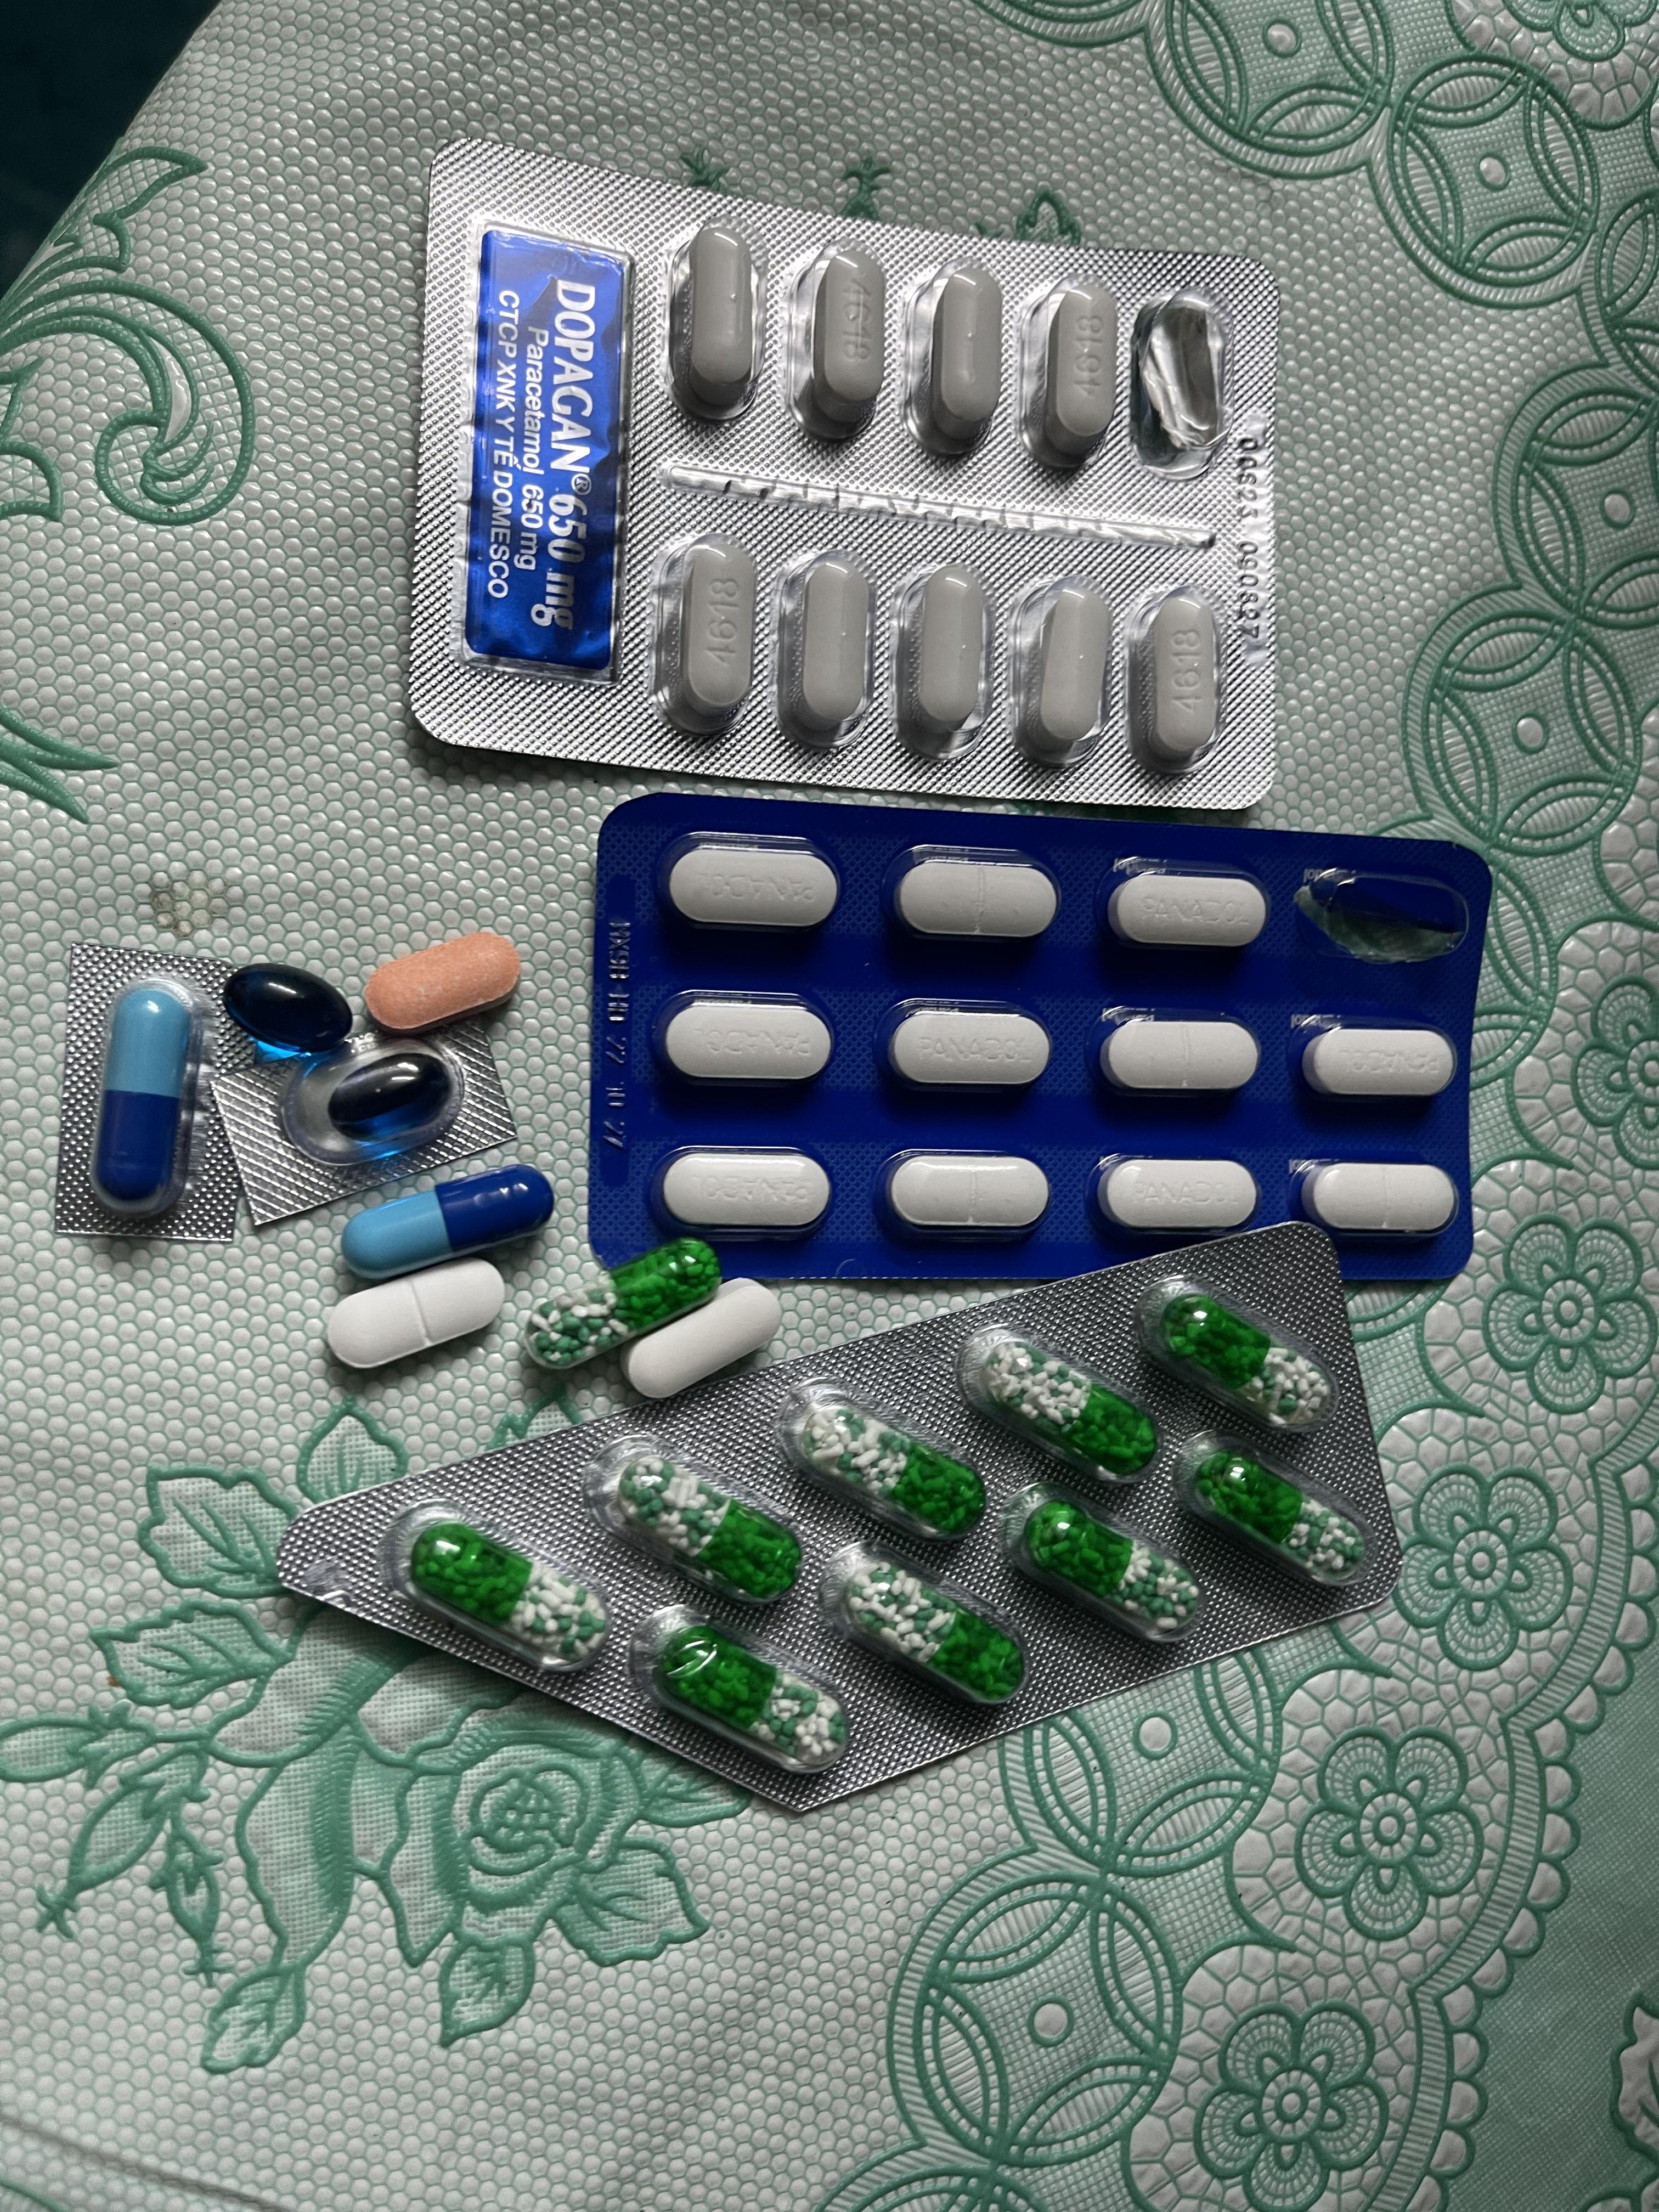Lincomyxin_500mg: (220, 963, 358, 1058), (328, 1052, 450, 1135)
Loratadine_10mg: (362, 931, 521, 1036)
Paracetamol_350mg: (326, 1259, 510, 1368), (886, 846, 1062, 945), (665, 839, 837, 934), (659, 997, 832, 1088), (880, 1151, 1051, 1243), (659, 1148, 831, 1237), (884, 1005, 1054, 1093), (1101, 865, 1266, 952), (1097, 1157, 1262, 1239), (1102, 1015, 1259, 1096), (1297, 1164, 1459, 1241), (1299, 1024, 1458, 1099)
Paracetamol_500mg: (652, 535, 759, 736), (889, 563, 997, 757), (1006, 575, 1116, 766), (899, 258, 1002, 460), (785, 241, 888, 440), (774, 550, 876, 747), (1018, 279, 1120, 471), (665, 221, 761, 422), (624, 1277, 781, 1397), (1126, 584, 1222, 770)
Paracetamol_650mg: (998, 1481, 1200, 1643), (612, 1456, 804, 1596), (838, 1556, 1020, 1703), (416, 1523, 606, 1663), (527, 1237, 724, 1366), (656, 1629, 840, 1758), (796, 1408, 981, 1534), (1193, 1448, 1365, 1578), (1159, 1296, 1329, 1427), (987, 1342, 1157, 1470)
pill: (91, 977, 200, 1212), (342, 1166, 550, 1279)
